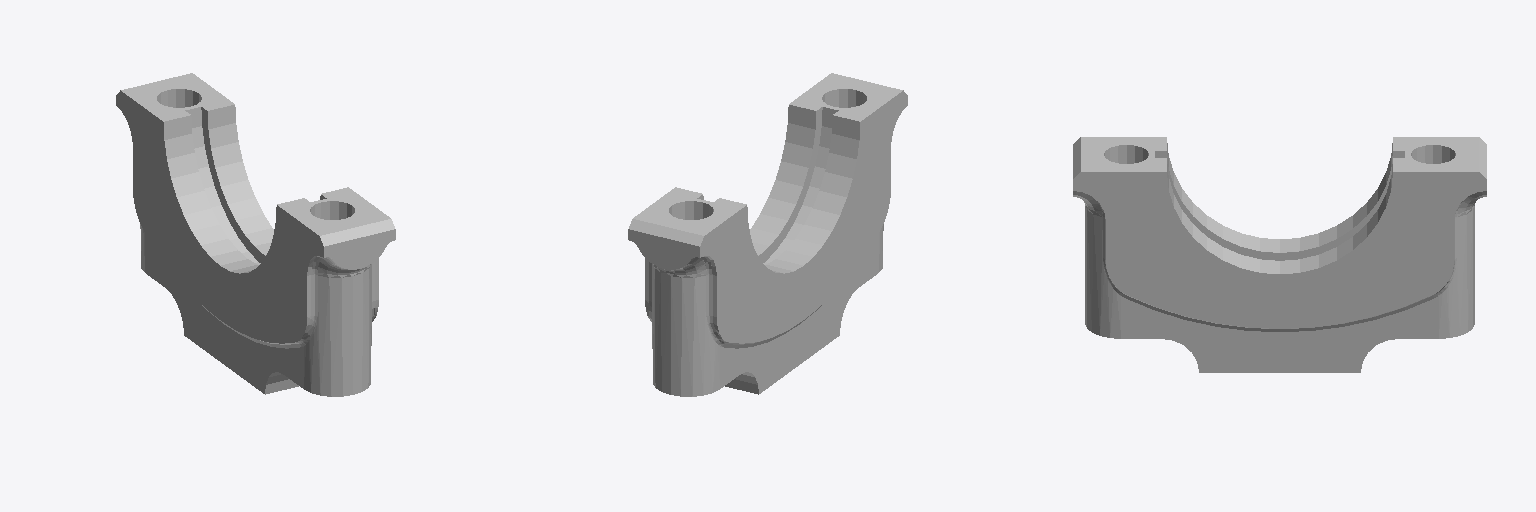
File: Крышка коренного подшипника.obj
3 renders of one model, left to right at view 1: azimuth 30°, elevation 25°; view 2: azimuth 150°, elevation 25°; view 3: azimuth 270°, elevation 25°, orthographic.
Parts seen in each view (by area): view 1: Крышка_коренного_подшипника; view 2: Крышка_коренного_подшипника; view 3: Крышка_коренного_подшипника.
Boxes of the visible parts, box(x1,y1,x2,y2) form: Крышка_коренного_подшипника: box(116, 73, 395, 396); Крышка_коренного_подшипника: box(628, 73, 907, 396); Крышка_коренного_подшипника: box(1073, 137, 1486, 372).
Size of the model in its own units: 20 by 54 by 100.